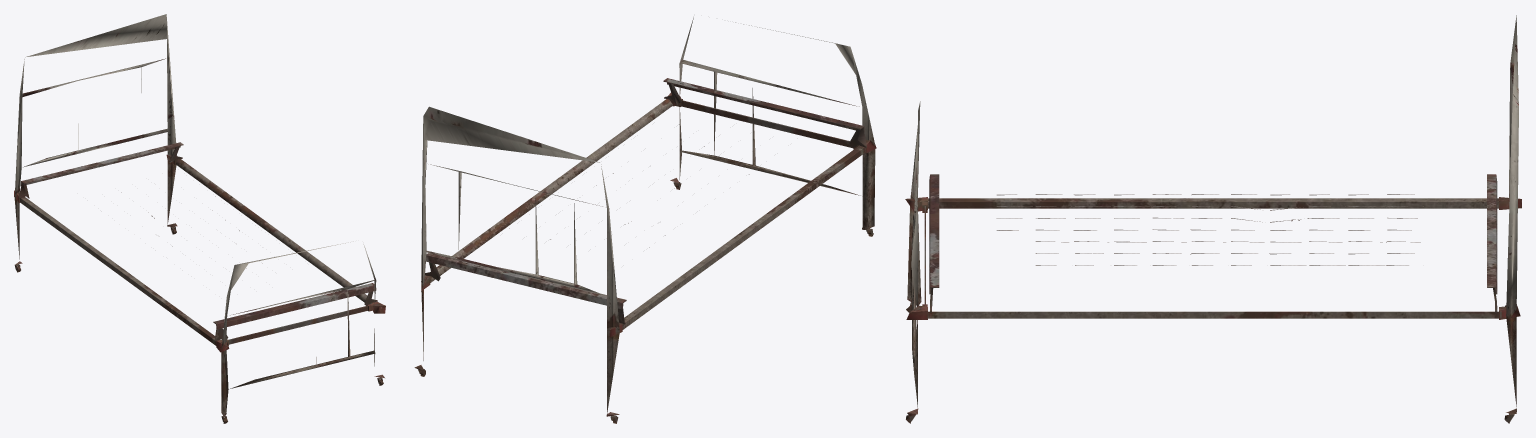
Rendered from old_bed_frame.glb.
3 renders of one model, left to right at view 1: azimuth 30°, elevation 25°; view 2: azimuth 150°, elevation 25°; view 3: azimuth 270°, elevation 25°, orthographic. The views are drawn at different scales.
Visible parts, largest first — view 1: old_bed_frame; view 2: old_bed_frame; view 3: old_bed_frame.
Part boxes in pixels (x1,y1,x2,y2): old_bed_frame: [14, 14, 385, 423]; old_bed_frame: [414, 17, 876, 423]; old_bed_frame: [905, 15, 1521, 423].
Bounding box in the file's own units: 0.8966 × 1.15 × 2.
1 material, 1 textured.
